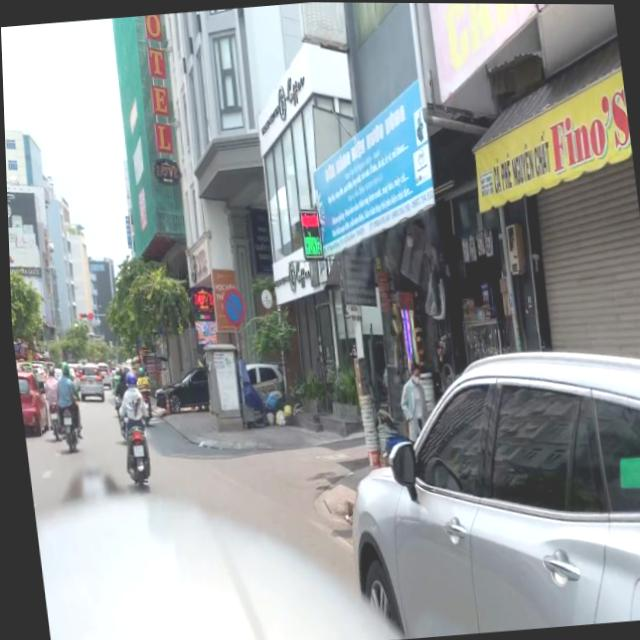Cam do xe: (217, 286, 245, 328)
